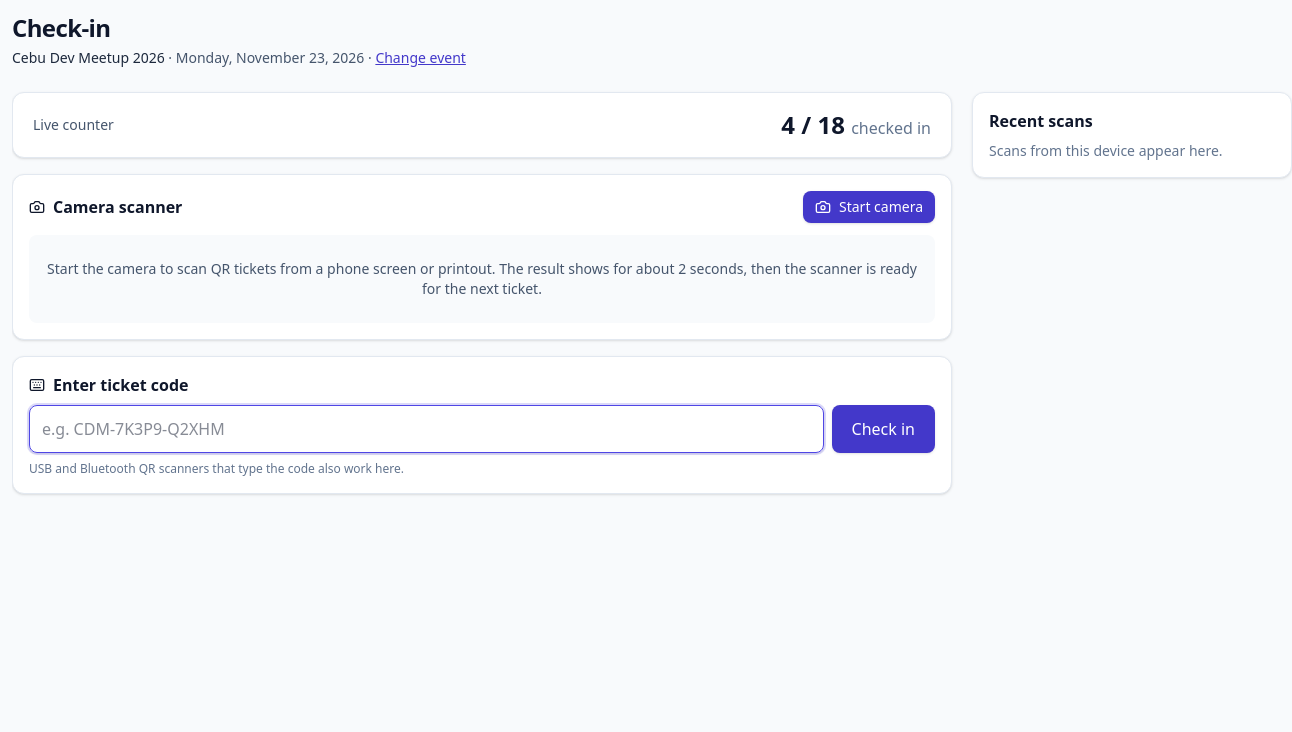
Test: Camera check-in flow › supports manual ticket entry as a fallback
The width and height of the screenshot is (1292, 732).
Step 1. Type "CDM-7K3P9-Q2XHM" into the field labelled "Enter ticket code" → (426, 429), box [29,405,824,453]
Then press Enter
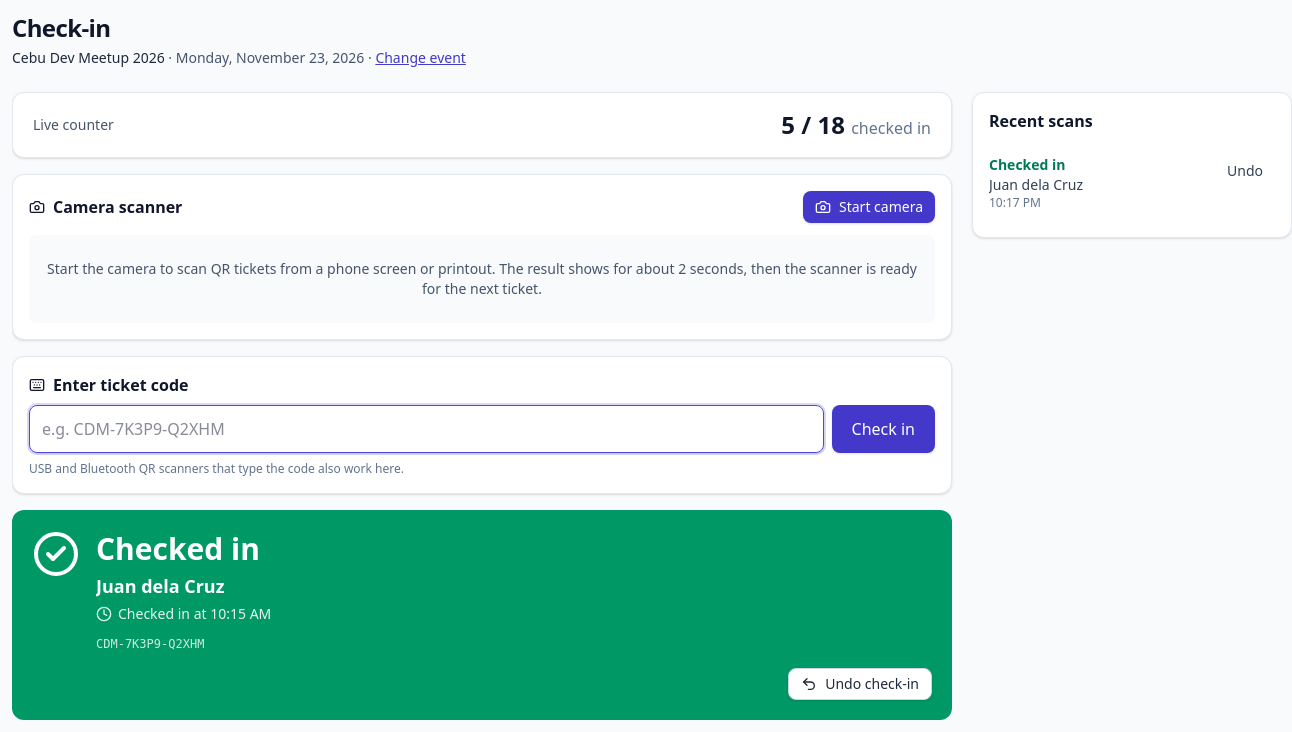
Expected: the message with test id "check-in-result" shows "Checked in", [96,528,260,569]
